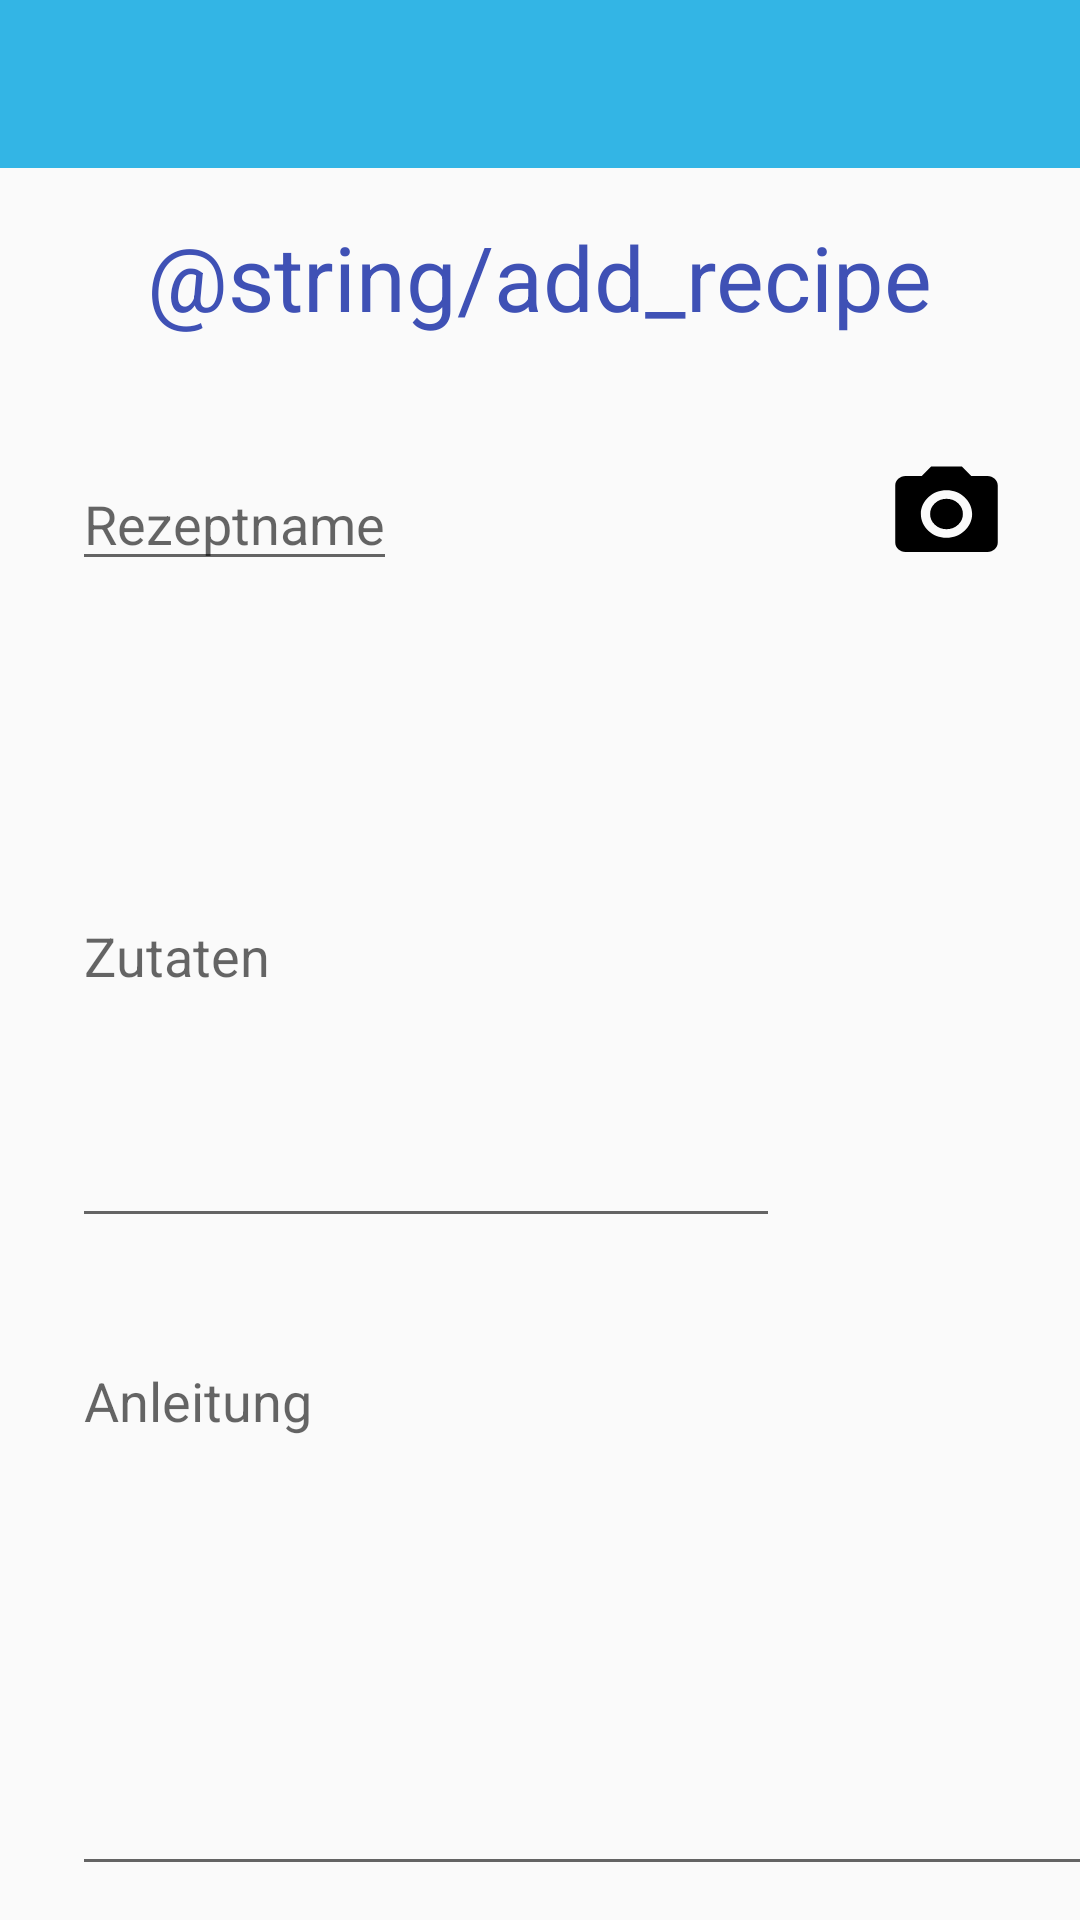

Screen size 1080x1920. Icon name, then its box in pixels as (x1, y1, x2, y2):
camera: (895, 466, 998, 552)
